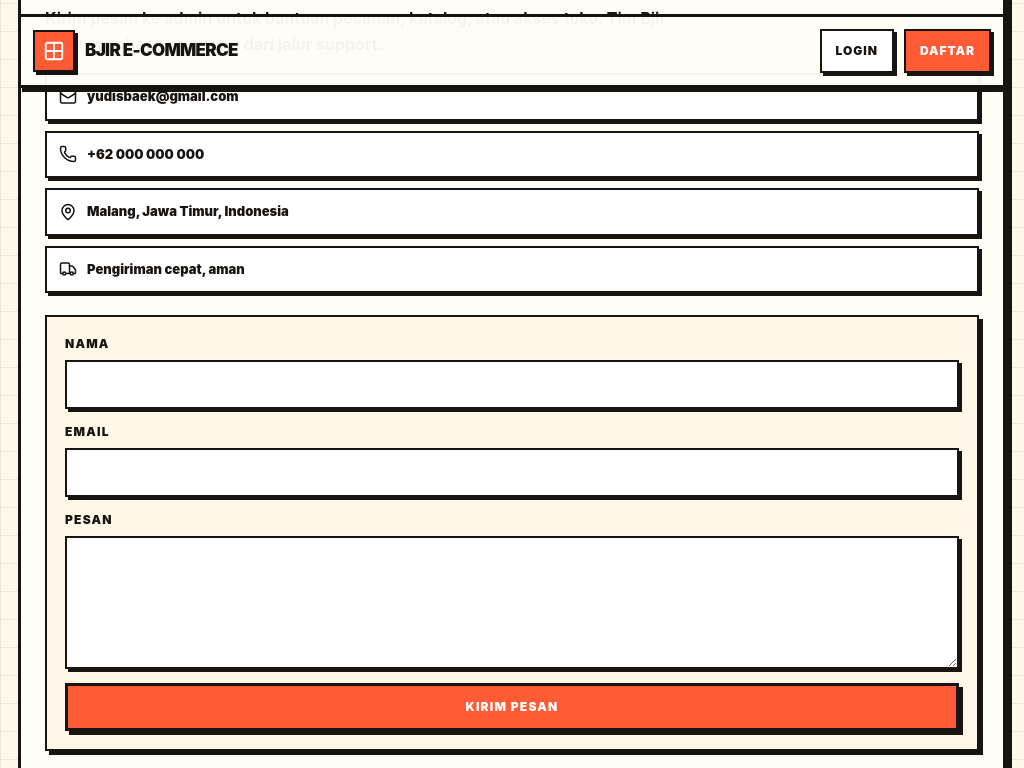
Scenario: LandingPage › submits the contact form, resets fields, and shows a success toast
The width and height of the screenshot is (1024, 768).
(page scrolled)
Type "Bintang" into the field labelled "Nama" at point(512, 385), box [65,360,959,409]
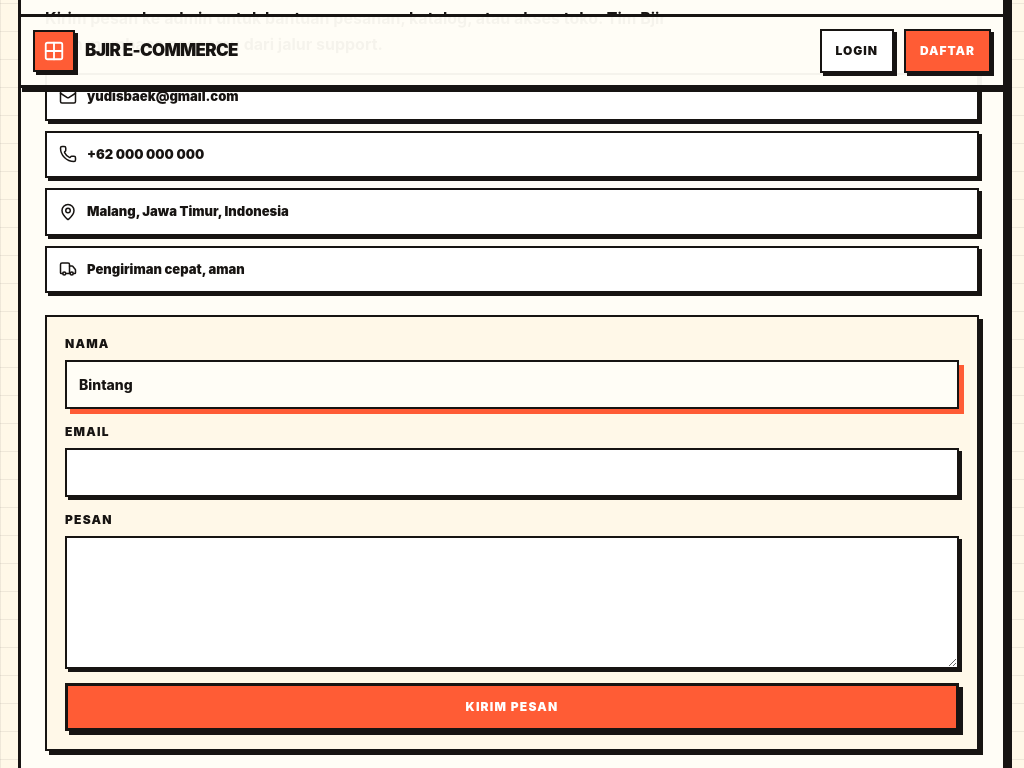
Type "bintang@example.test" into the field labelled "Email" at point(512, 473), box [65,448,959,497]
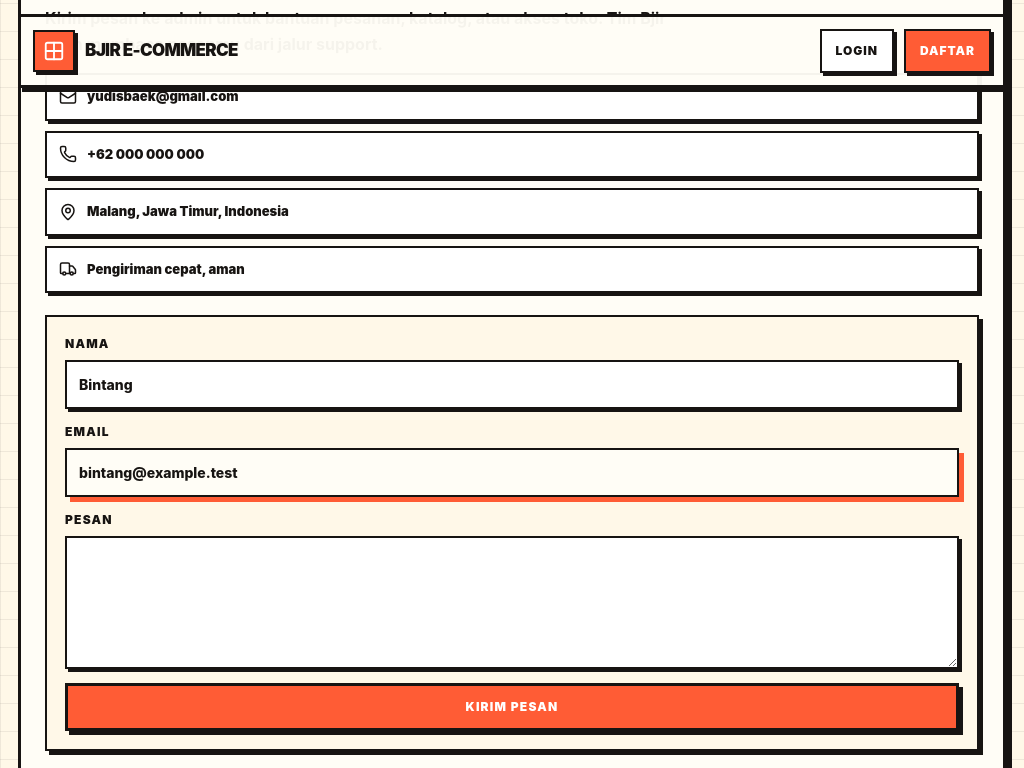
Type "Saya ingin bertanya soal produk." into the text box labelled "Pesan" at point(512, 603), box [65,536,959,669]
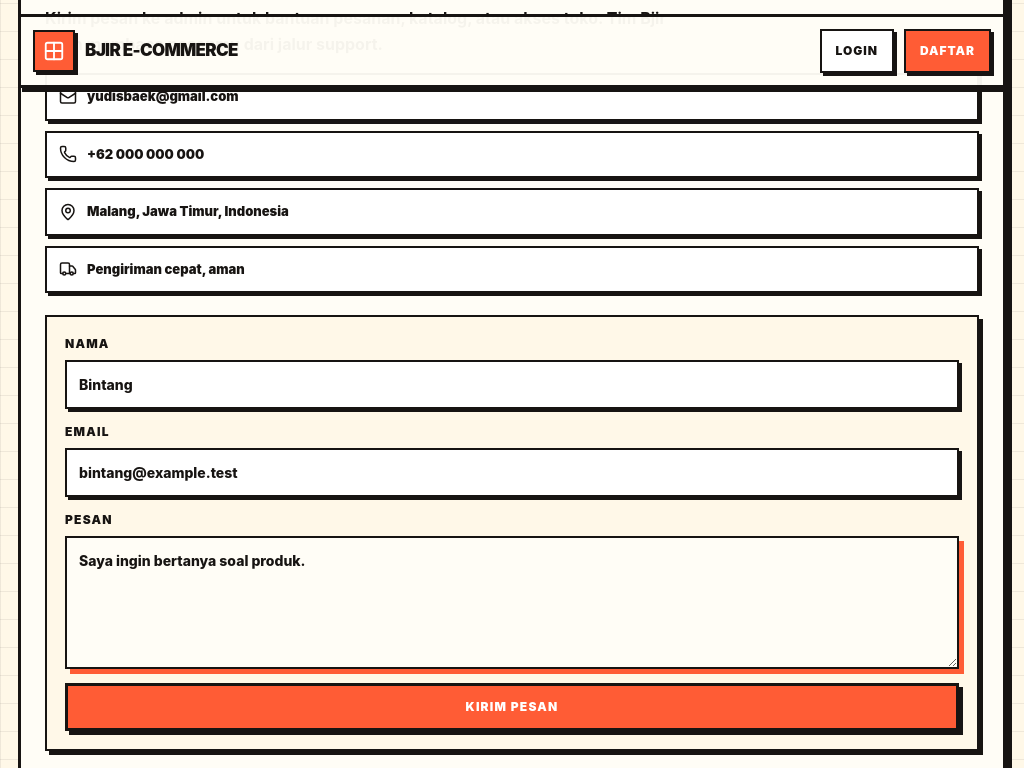
Click the button "Kirim Pesan" at point(512, 707), box [65,683,959,731]
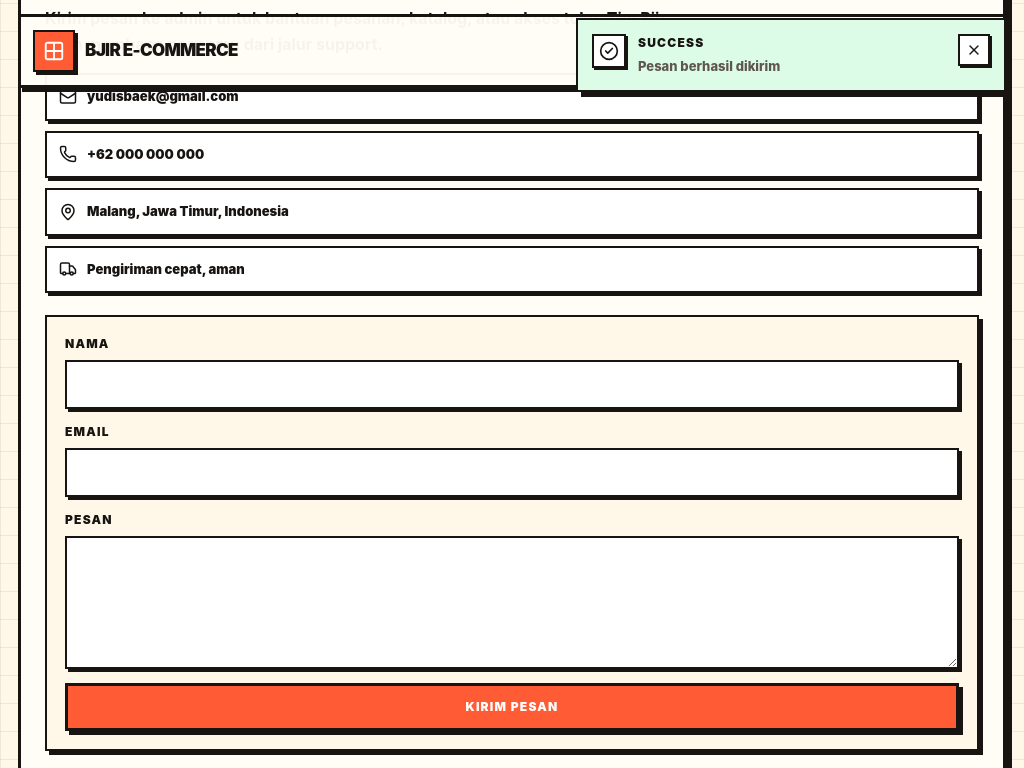
Expected: the text "Pesan berhasil dikirim" is shown, [638,58,780,74]
Expected: the field labelled "Nama" is empty, [65,360,959,409]
Expected: the field labelled "Email" is empty, [65,448,959,497]
